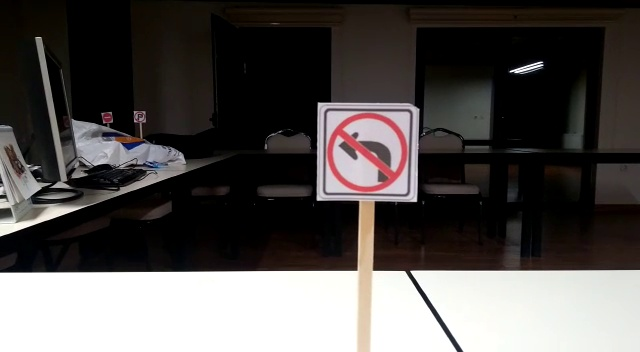sola_donulmez: (330, 107, 413, 193)
